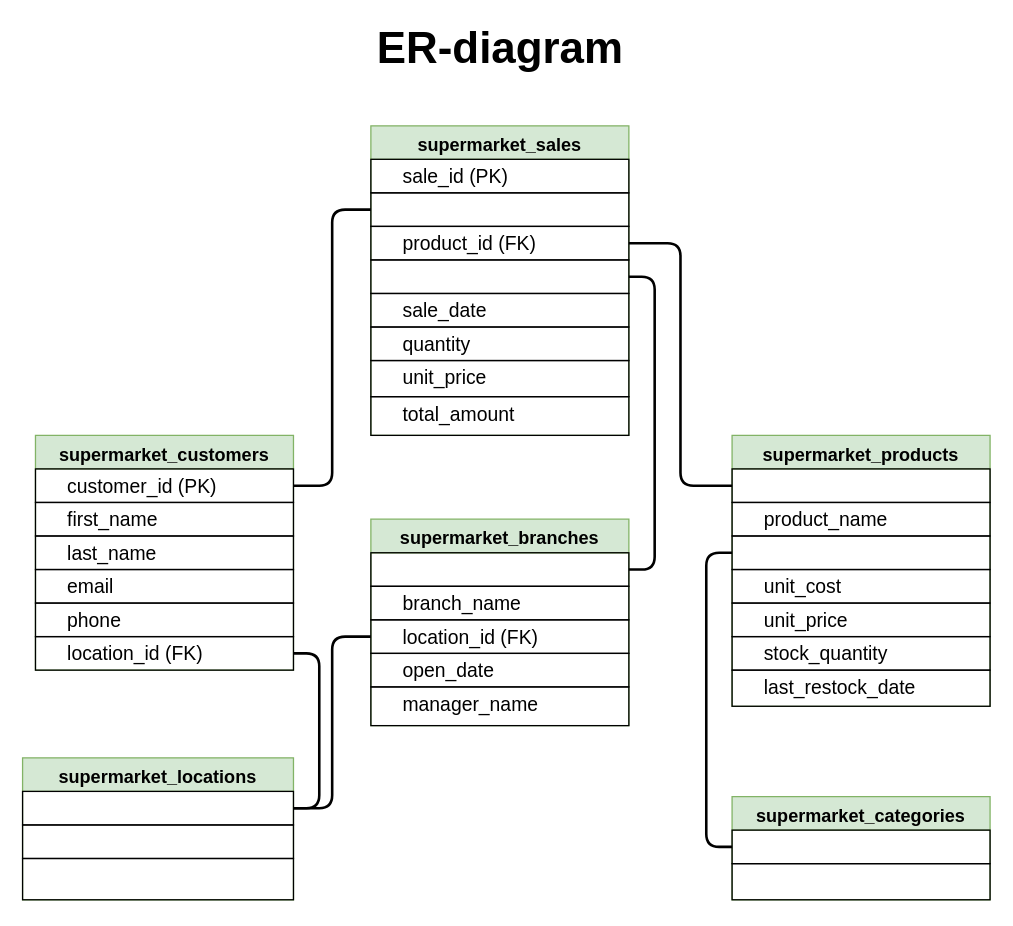
The diagram is 1013 pixels wide and 926 high, and some of its shapes have lost their labels. Here are the shapes that lost their labels. From the top down, the centre of each, then its label:
At point (499, 209): "customer_id (FK)".
At point (499, 276): "branch_id (FK)".
At point (860, 485): "product_id (PK)".
At point (499, 568): "branch_id (PK)".
At point (860, 552): "category_id (FK)".
At point (157, 807): "location_id (PK)".
At point (157, 841): "city".
At point (860, 846): "category_id (PK)".
At point (157, 878): "region".
At point (860, 881): "category_name".
